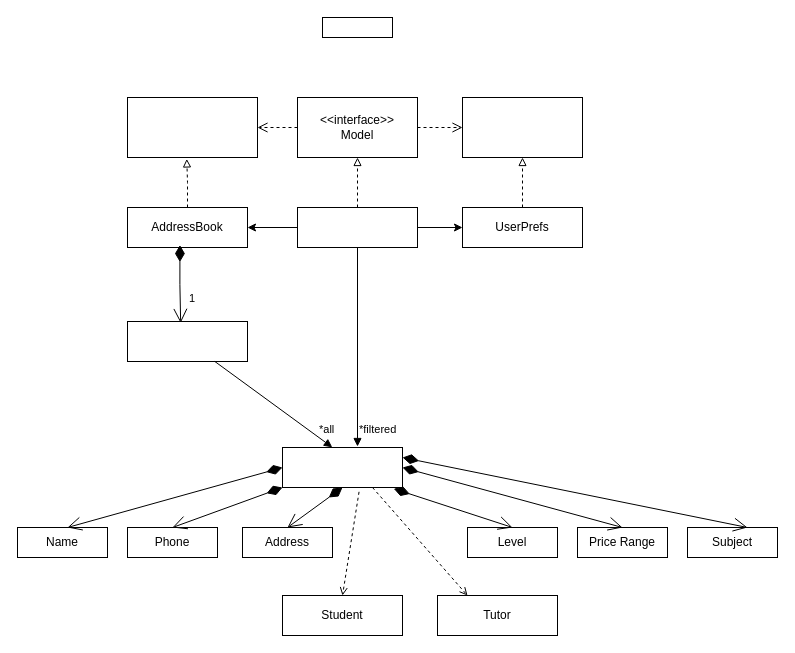
This 795x653 diagram has some shape labels left out. The shapes that lost their labels are listed below. From the top down, each one's box as (x1, y1, x2, y2) in pixels, then its label:
(322, 16, 392, 38): MODEL
(126, 96, 258, 158): <<interface>> ReadOnlyAddressBook
(462, 96, 582, 158): <<interface>> ReadOnlyUserPrefs
(296, 206, 418, 248): ModelManager
(126, 320, 248, 362): UniquePersonList
(282, 446, 402, 488): Person
